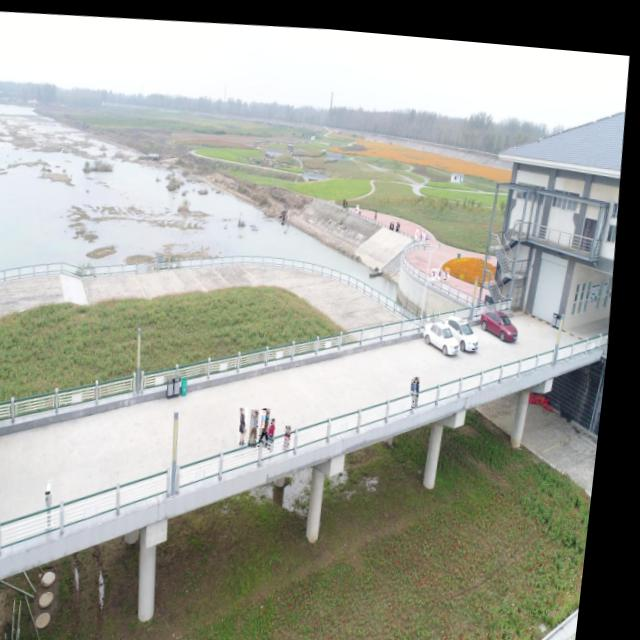Person: (267, 402, 280, 441), (246, 401, 258, 440), (257, 404, 269, 442), (418, 368, 428, 399), (276, 412, 285, 444), (292, 418, 301, 444), (268, 404, 276, 422), (417, 371, 425, 387), (449, 258, 455, 272), (436, 259, 442, 272), (442, 259, 446, 272), (399, 214, 403, 224), (419, 221, 423, 231), (426, 223, 430, 232), (359, 197, 363, 205), (394, 215, 398, 223), (378, 203, 381, 212), (395, 213, 398, 222), (292, 205, 295, 214), (424, 225, 427, 232), (287, 208, 290, 215), (402, 214, 404, 224), (347, 192, 349, 201), (291, 205, 293, 214), (349, 194, 351, 201), (394, 214, 396, 221), (287, 208, 288, 214)
